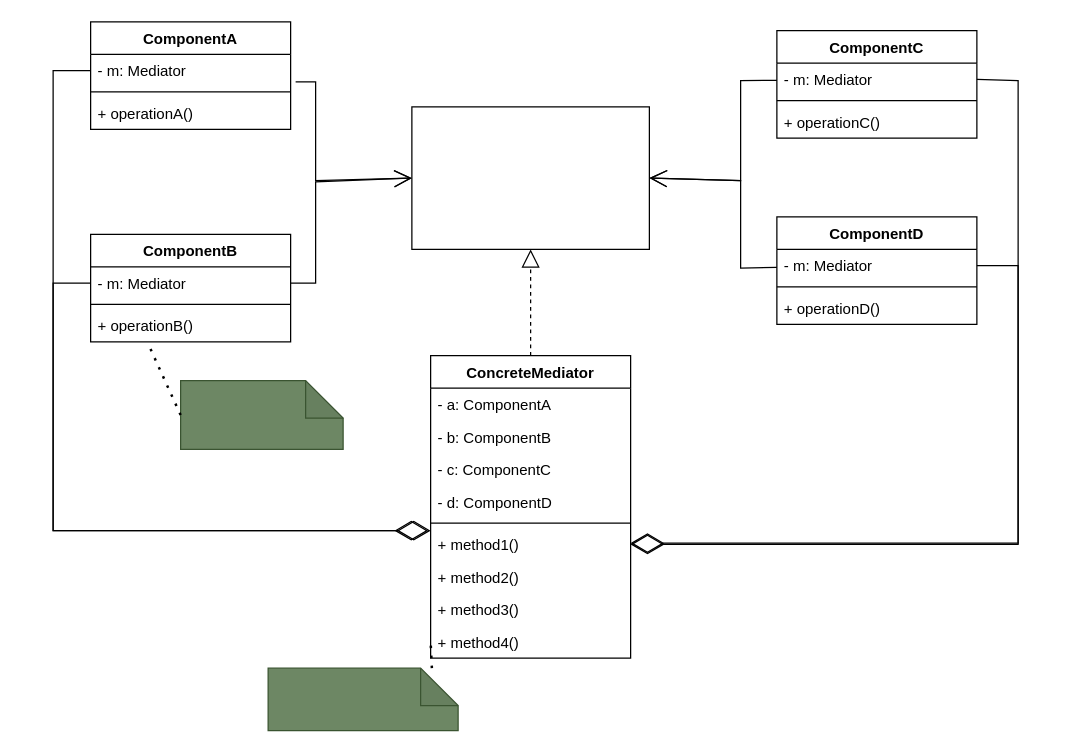
Some shapes in this 1073 by 753 pixel diagram are drawn without their labels. Each missing label, with the centre of its shape:
<<Interface>> Mediator + method1() + method2() + method3() + method4(): [530,177]
c.operationD(): [362,699]
m.method4(): [261,414]
